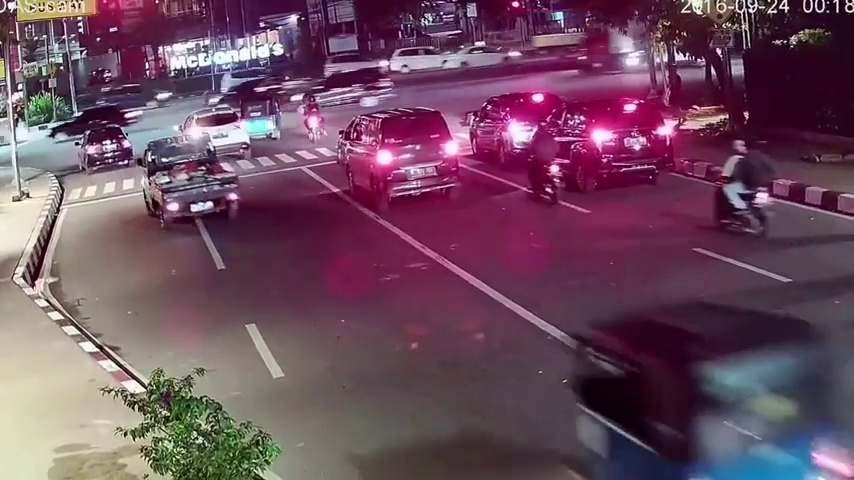car: (570, 299, 848, 480), (346, 112, 464, 213), (545, 98, 671, 192), (142, 134, 242, 226), (469, 90, 564, 168), (179, 108, 248, 161), (78, 125, 135, 173), (241, 92, 281, 140)
motorbike: (713, 136, 777, 240), (525, 123, 564, 205), (300, 93, 324, 146)
